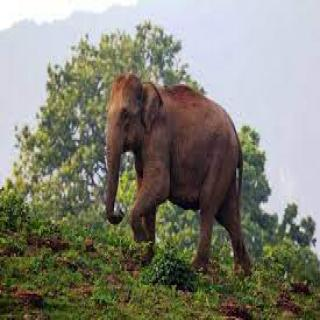Elephant: (100, 72, 258, 283)
